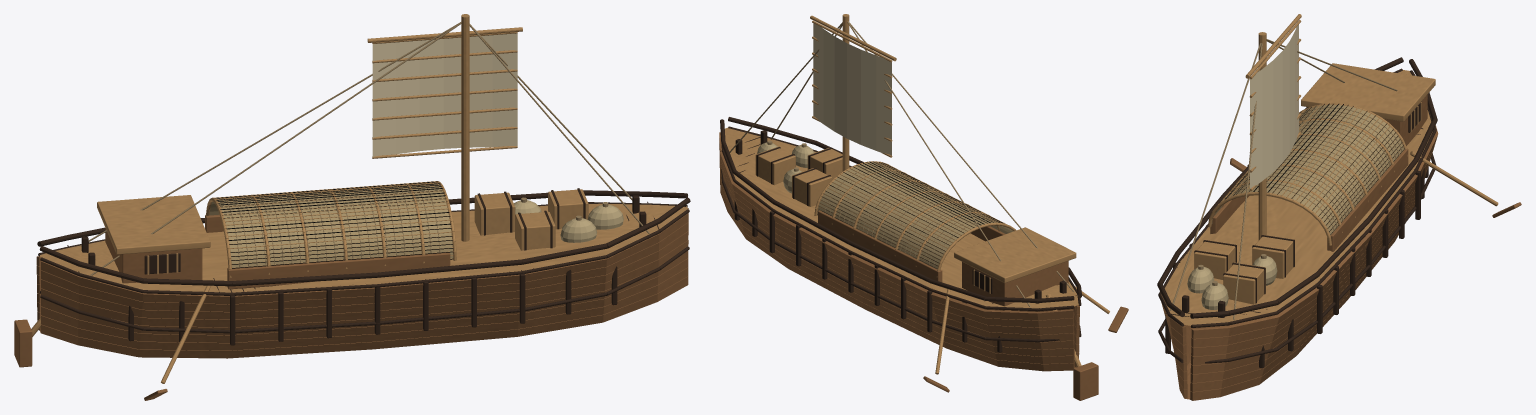
Rendered from shipModelData-suiRiver.glb.
3 views of the same model, side by side, from view 1: azimuth 30°, elevation 25°; view 2: azimuth 150°, elevation 25°; view 3: azimuth 270°, elevation 25° (orthographic). The views are drawn at different scales.
Parts seen in each view (by area): view 1: transport hull plank, deck, deck board seam, single linen sail, woven canopy surface, canopy reed binding, grain sack; view 2: transport hull plank, deck, deck board seam, woven canopy surface, single linen sail, canopy reed binding, grain sack; view 3: deck, transport hull plank, deck board seam, woven canopy surface, single linen sail, canopy reed binding, grain sack.
Boxes of the visible parts, box(x1,y1,x2,y2) form: transport hull plank: box(14, 208, 688, 400); deck: box(31, 14, 687, 383); deck board seam: box(37, 188, 690, 345); single linen sail: box(372, 33, 517, 156); woven canopy surface: box(209, 183, 453, 267); canopy reed binding: box(79, 21, 650, 275); grain sack: box(514, 200, 623, 242); transport hull plank: box(719, 132, 1128, 400); deck: box(725, 14, 1109, 374); deck board seam: box(720, 117, 1081, 352); woven canopy surface: box(817, 162, 1013, 268); single linen sail: box(813, 23, 891, 155); canopy reed binding: box(729, 21, 1074, 307); grain sack: box(757, 142, 814, 193); deck: box(1161, 14, 1498, 325); transport hull plank: box(1161, 74, 1521, 400); deck board seam: box(1157, 57, 1437, 368); woven canopy surface: box(1211, 104, 1403, 234); single linen sail: box(1250, 25, 1298, 188); canopy reed binding: box(1170, 39, 1401, 320); grain sack: box(1187, 256, 1277, 309).
Size of the model in its own units: 13.24 by 7.03 by 7.6.
7 materials, 2 textured.
